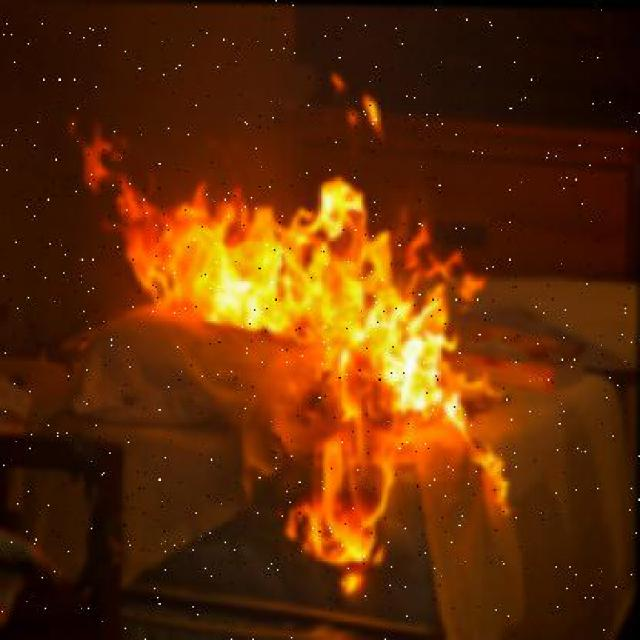fire: (53, 103, 500, 417)
